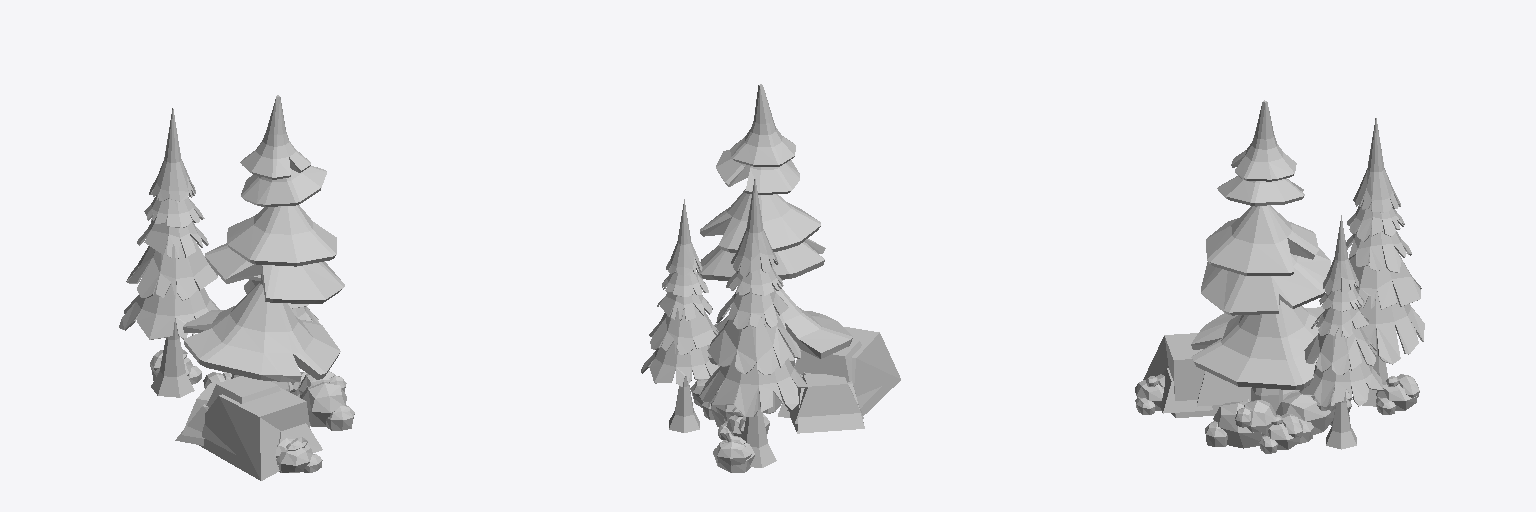
File: tree-set_alive.obj
3 renders of one model, left to right at view 1: azimuth 30°, elevation 25°; view 2: azimuth 150°, elevation 25°; view 3: azimuth 270°, elevation 25°, orthographic.
Parts seen in each view (by area): view 1: Cube.002, tree_pine_SC_04.003; view 2: Cube.002, tree_pine_SC_04.003; view 3: Cube.002, tree_pine_SC_04.003.
Part boxes in pixels (x1,y1,x2,y2): Cube.002: (119, 108, 354, 480); tree_pine_SC_04.003: (183, 95, 344, 391); Cube.002: (641, 179, 900, 472); tree_pine_SC_04.003: (697, 84, 852, 413); Cube.002: (1135, 118, 1424, 453); tree_pine_SC_04.003: (1191, 100, 1330, 412).
Size of the model in its own units: 3.8 by 6.61 by 5.37.